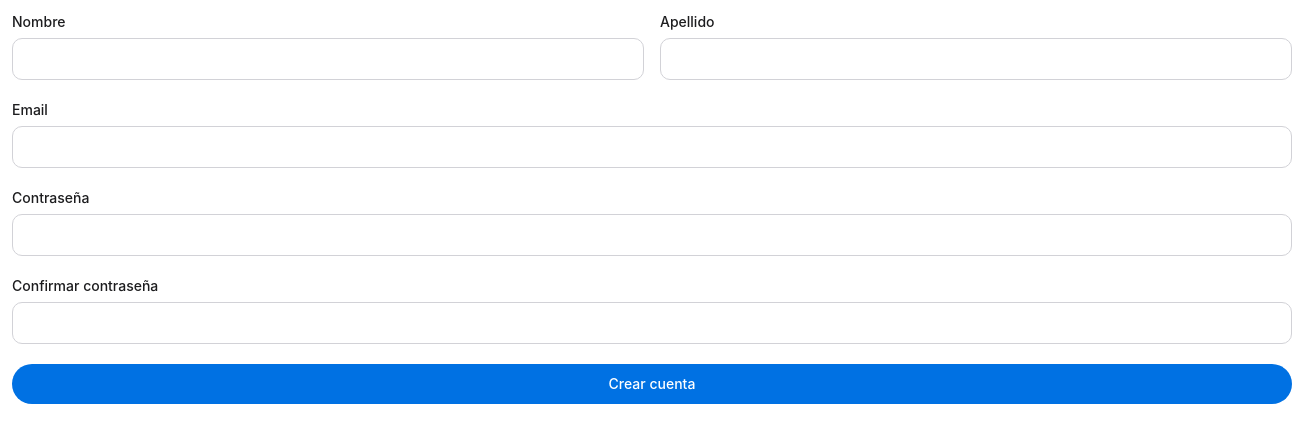
Test: RegisterForm › mapea el error 409 de email al campo email
The width and height of the screenshot is (1304, 443).
Type "duplicado@test.com" into the field labelled "Email" at (652, 147), box [12,126,1292,168]
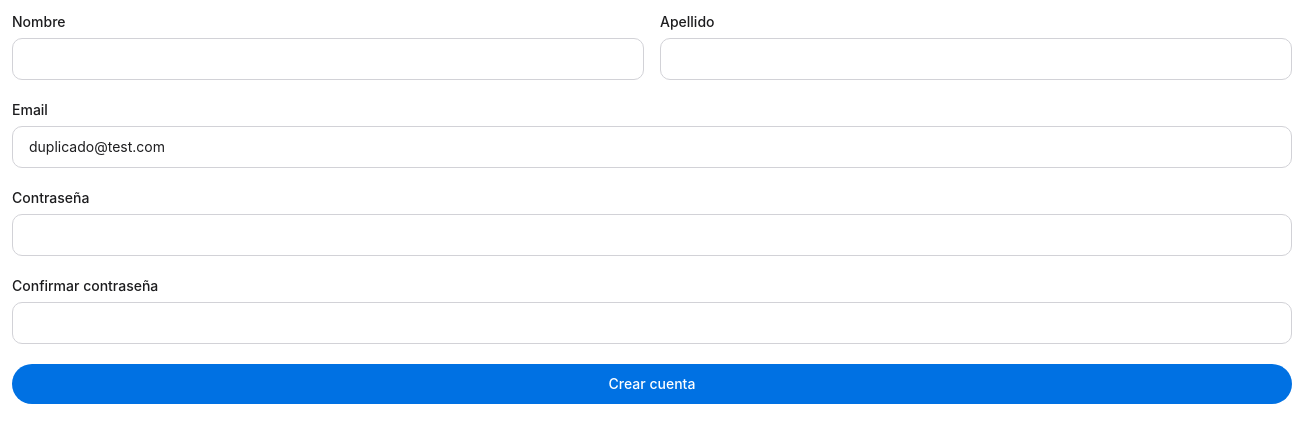
Type "Segura123!" into the password field labelled "Contraseña" at (652, 235), box [12,214,1292,256]
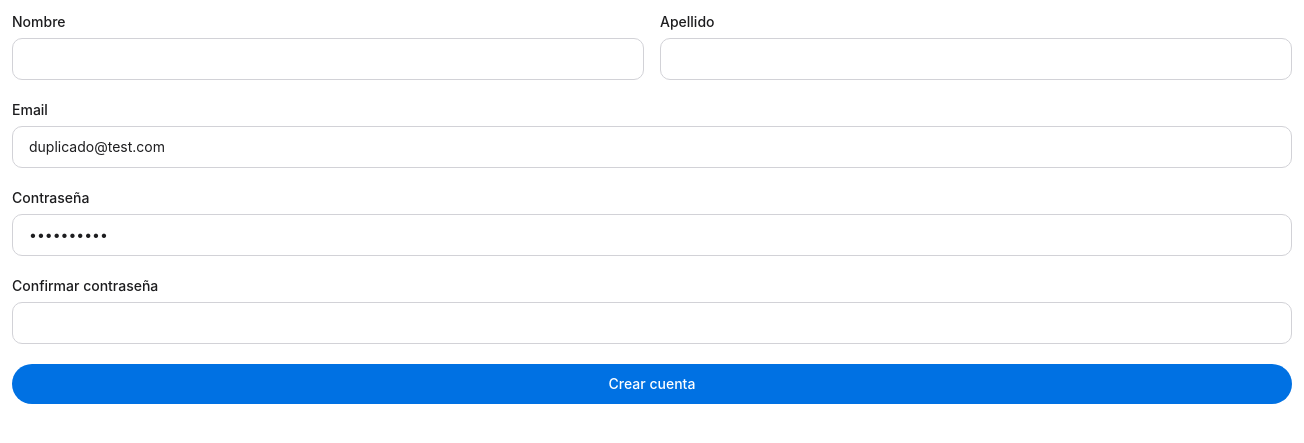
Type "Segura123!" into the password field labelled "Confirmar contraseña" at (652, 323), box [12,302,1292,344]
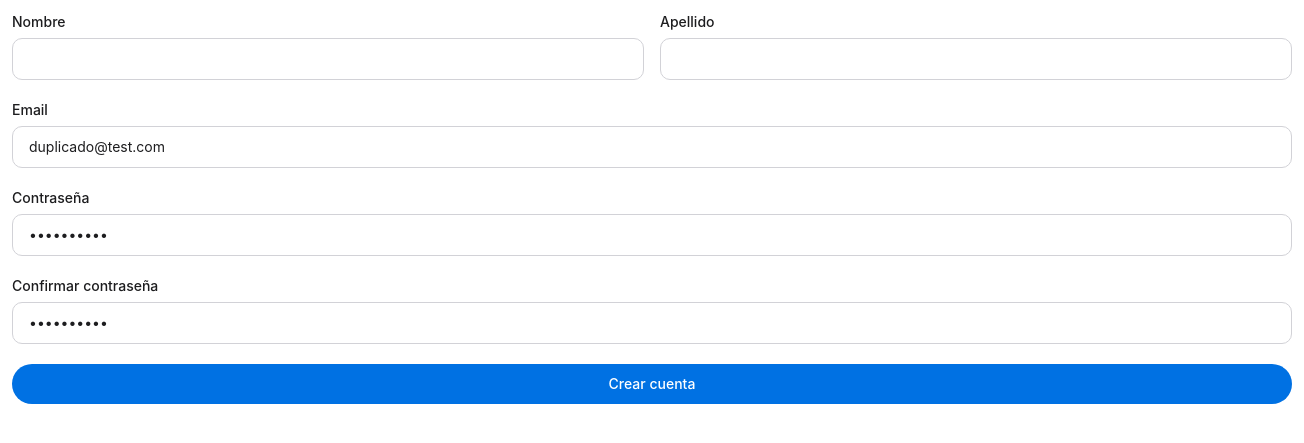
Type "Juan" into the field labelled "Nombre" at (328, 59), box [12,38,644,80]
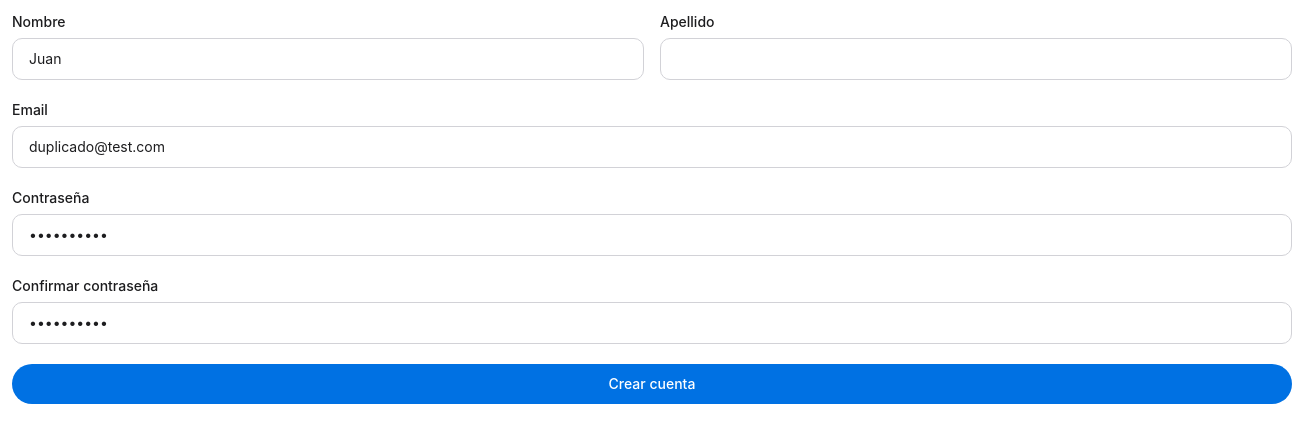
Type "Pérez" into the field labelled "Apellido" at (976, 59), box [660,38,1292,80]
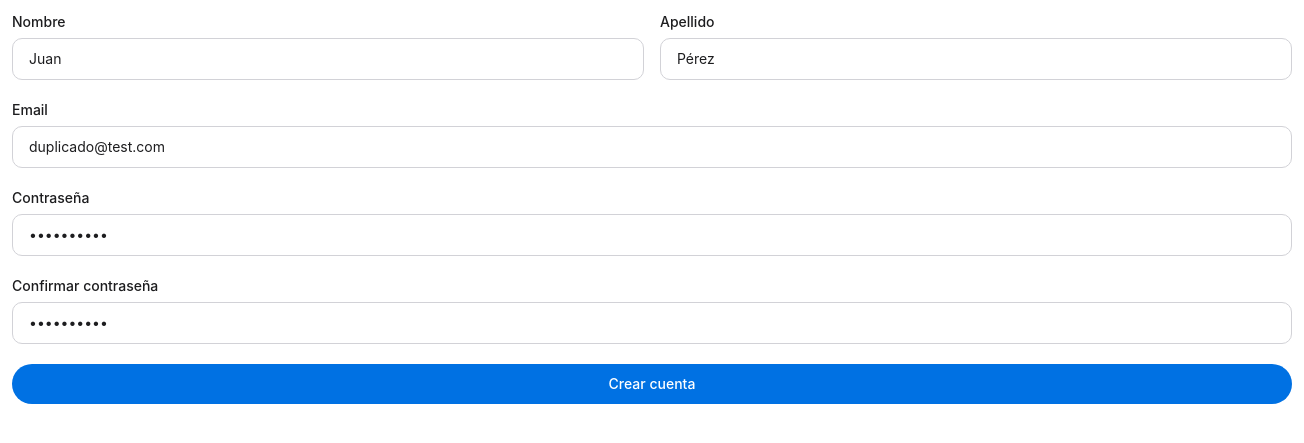
Click the button "Crear cuenta" at (652, 384), box [12,364,1292,404]
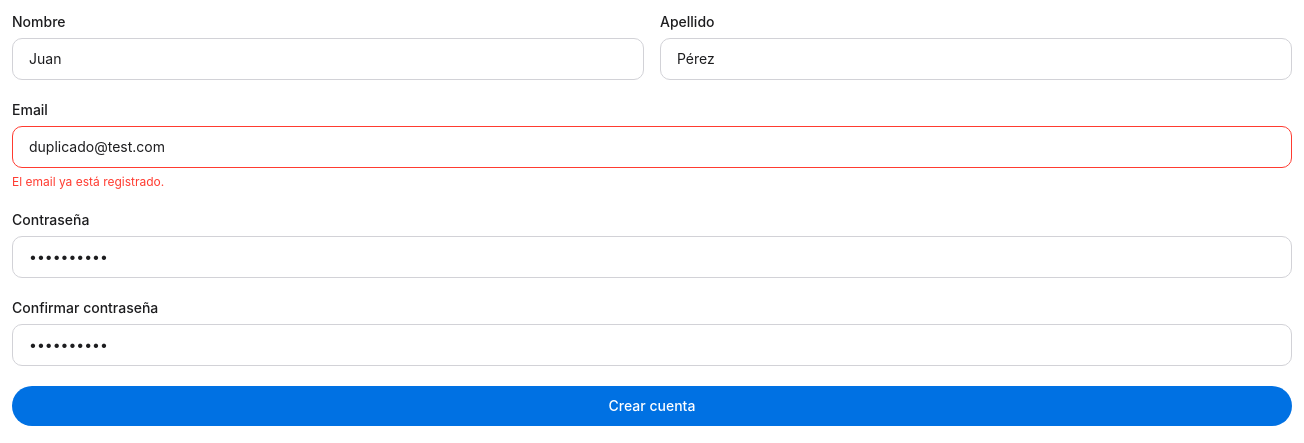
Expected: the text "El email ya está registrado." is shown, [12,174,164,189]
